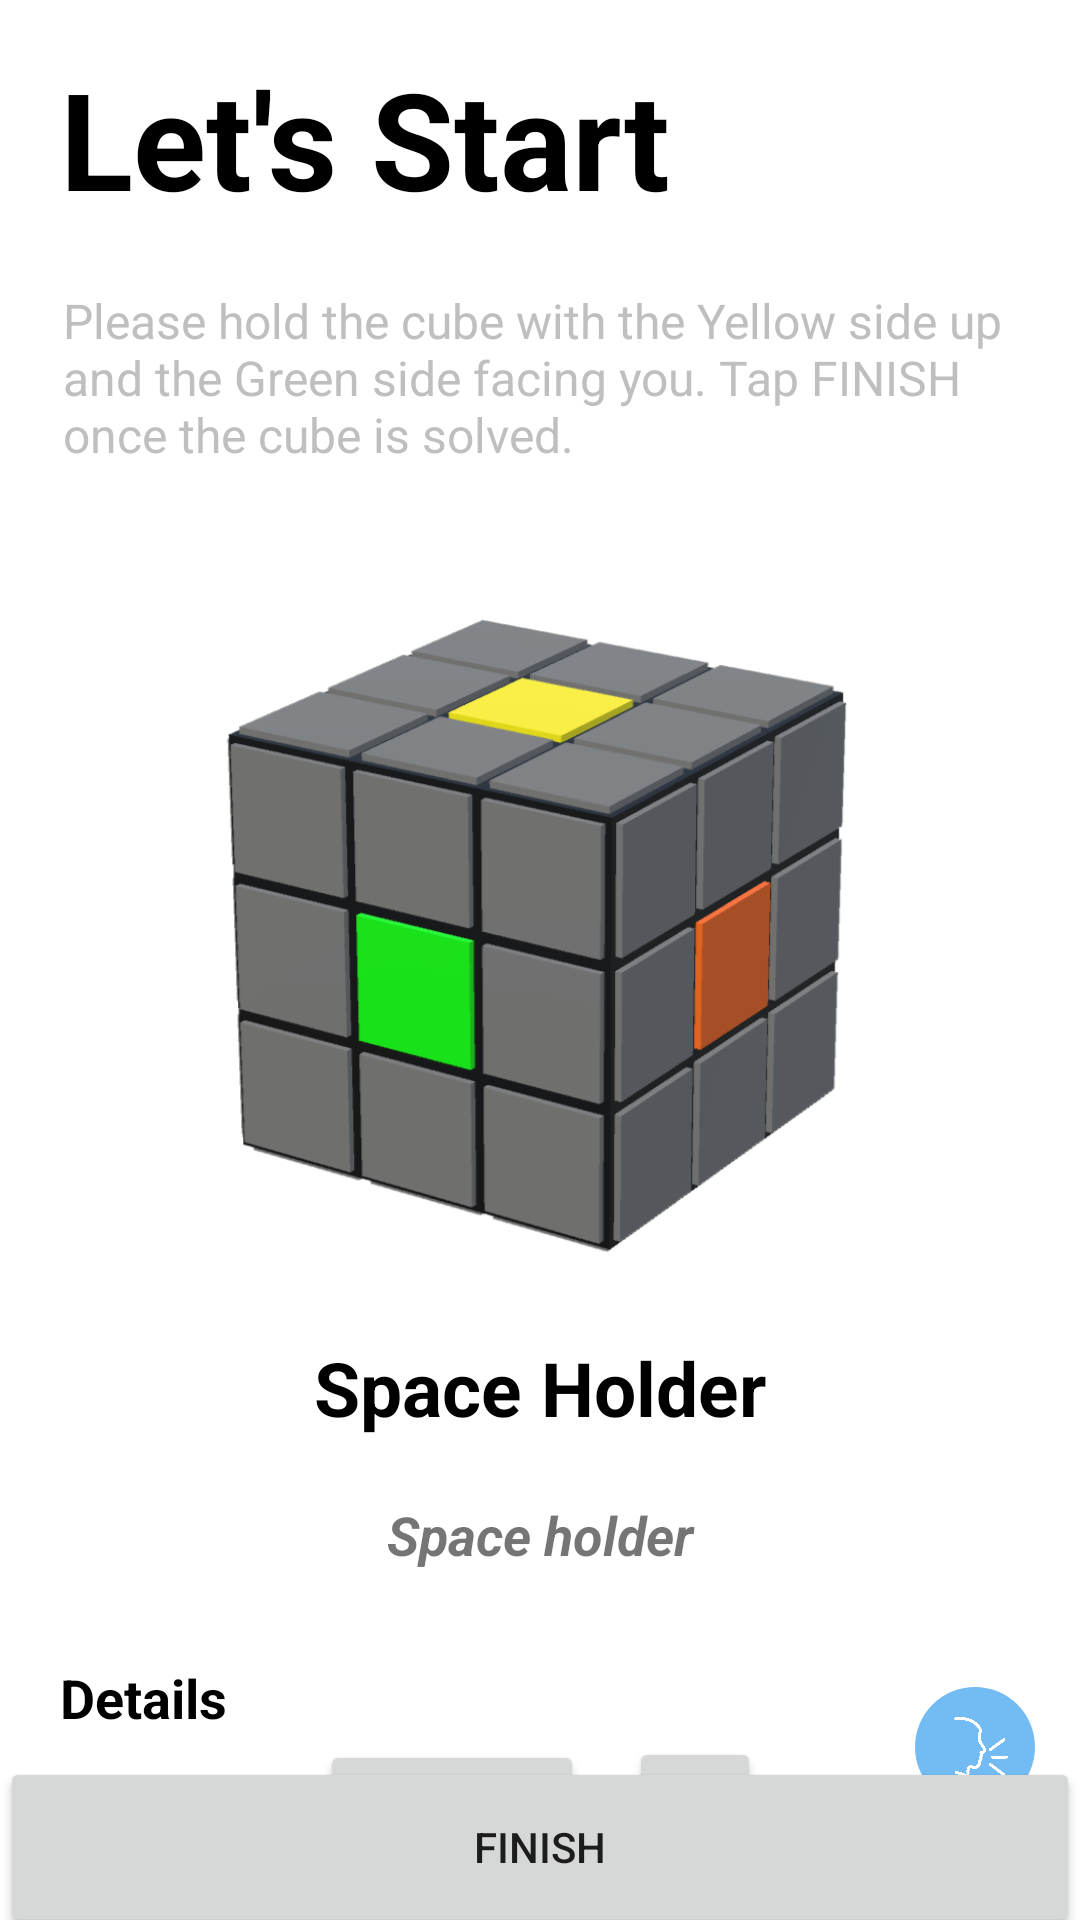

Icon bounding boxes for this 1080x1920 phone screenshot, format (x1, y1, x2, y2):
Speak: (915, 1687, 1035, 1807)
